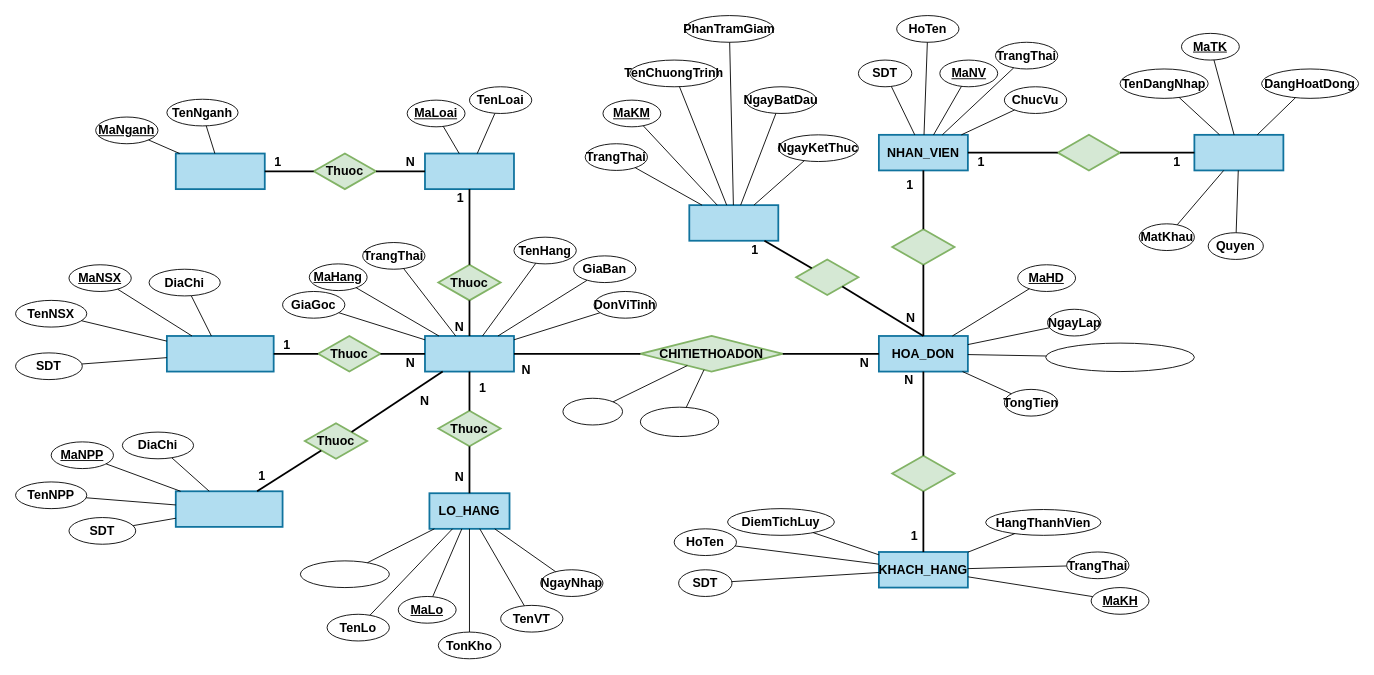
Some shapes in this 1374 by 675 pixel diagram are drawn without their labels. Each missing label, with the centre of its shape:
ApDung: the point at 827,276
DonGiaBan: the point at 679,421
KHUYEN_MAI: the point at 733,222
Lap: the point at 923,246
LOAI_HANG: the point at 469,171
MAT_HANG: the point at 469,353
Mua: the point at 923,473
NGANH_HANG: the point at 219,171
NHA_PHAN_PHOI: the point at 228,508
NHA_SAN_XUAT: the point at 220,353
PhuongThucThanhToan: the point at 1119,357
SoHuu: the point at 1088,152
SoLuong: the point at 592,411
SoLuongNhap: the point at 344,574
TAI_KHOAN: the point at 1238,152
